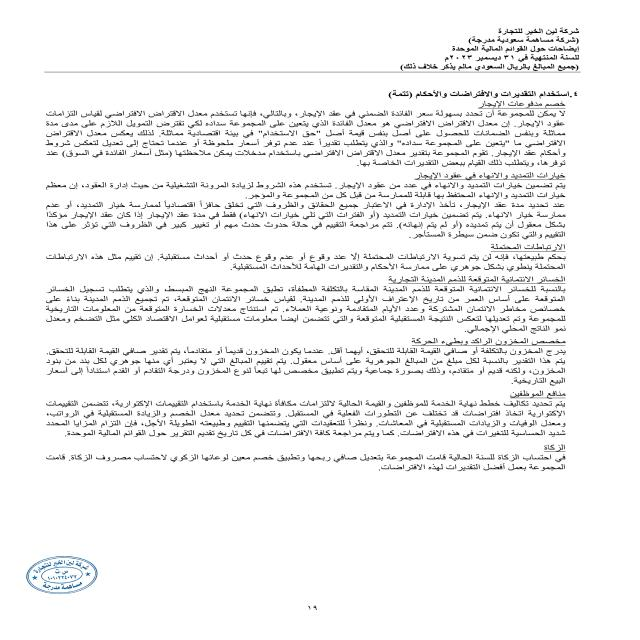notes: (448, 44, 581, 53)
text: (12, 82, 600, 493)
